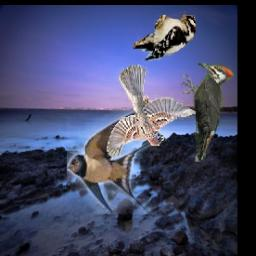Sparrow: (107, 65, 196, 158)
Swallow: (68, 109, 158, 215)
Woodpecker: (182, 63, 235, 163), (131, 11, 196, 61)
